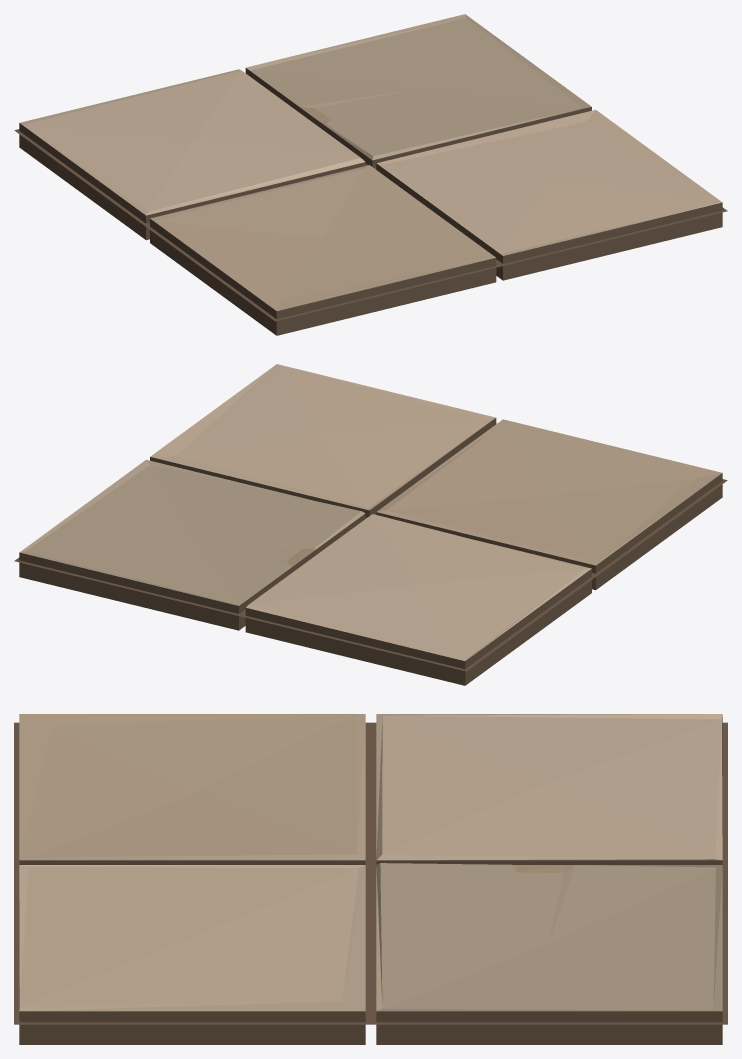
The model's file is SM_Ground_PavingTile_Clean_02.fbx.
3 renders of one model, top to bottom at view 1: azimuth 30°, elevation 25°; view 2: azimuth 150°, elevation 25°; view 3: azimuth 270°, elevation 25°, orthographic. The views are drawn at different scales.
Visible parts, largest first — view 1: SM_Ground_PavingTile_Clean_02; view 2: SM_Ground_PavingTile_Clean_02; view 3: SM_Ground_PavingTile_Clean_02.
Boxes of the visible parts, x1,y1,x2,y2 form: SM_Ground_PavingTile_Clean_02: [14, 14, 727, 335]; SM_Ground_PavingTile_Clean_02: [14, 364, 727, 685]; SM_Ground_PavingTile_Clean_02: [14, 714, 727, 1044].
Size of the model in its own units: 1 by 0.0588 by 1.
1 material, 1 textured.
